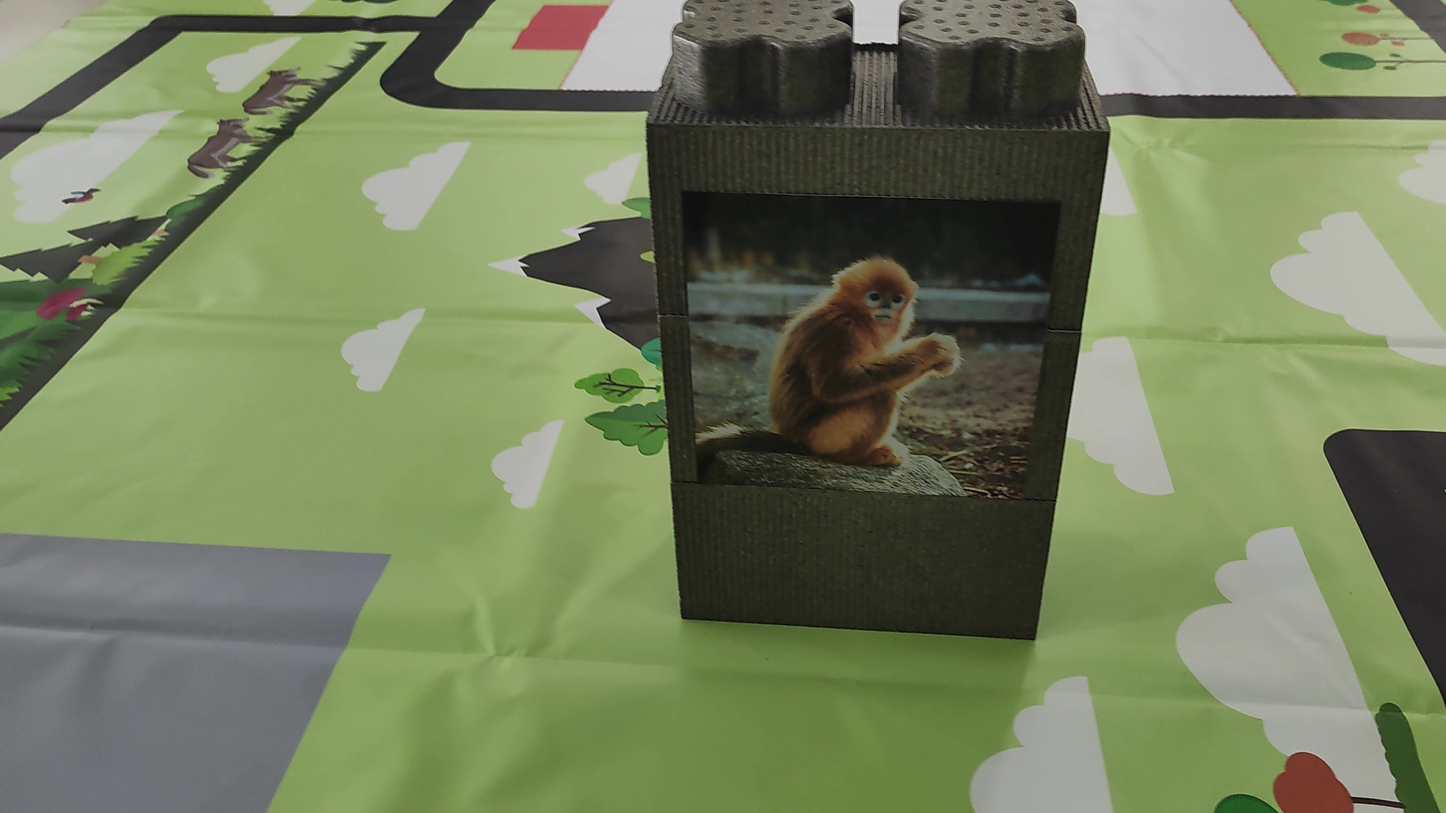monkey: (735, 238, 980, 489)
